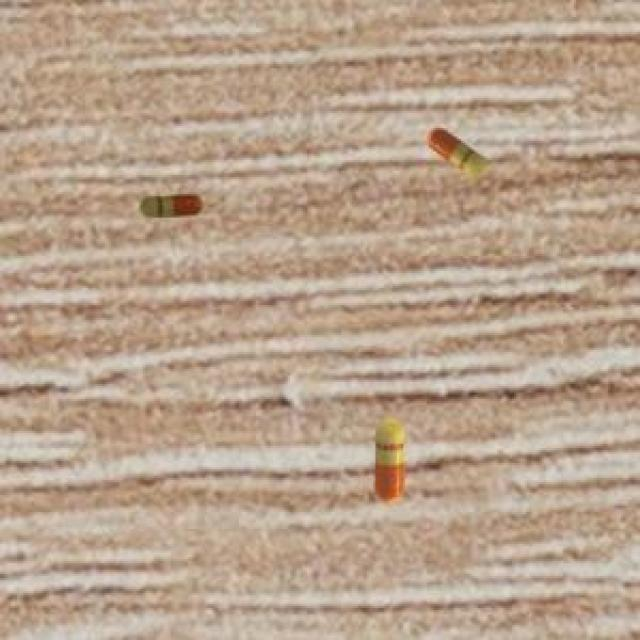Alaxan: (423, 121, 499, 192), (366, 410, 420, 508), (132, 186, 206, 230)
